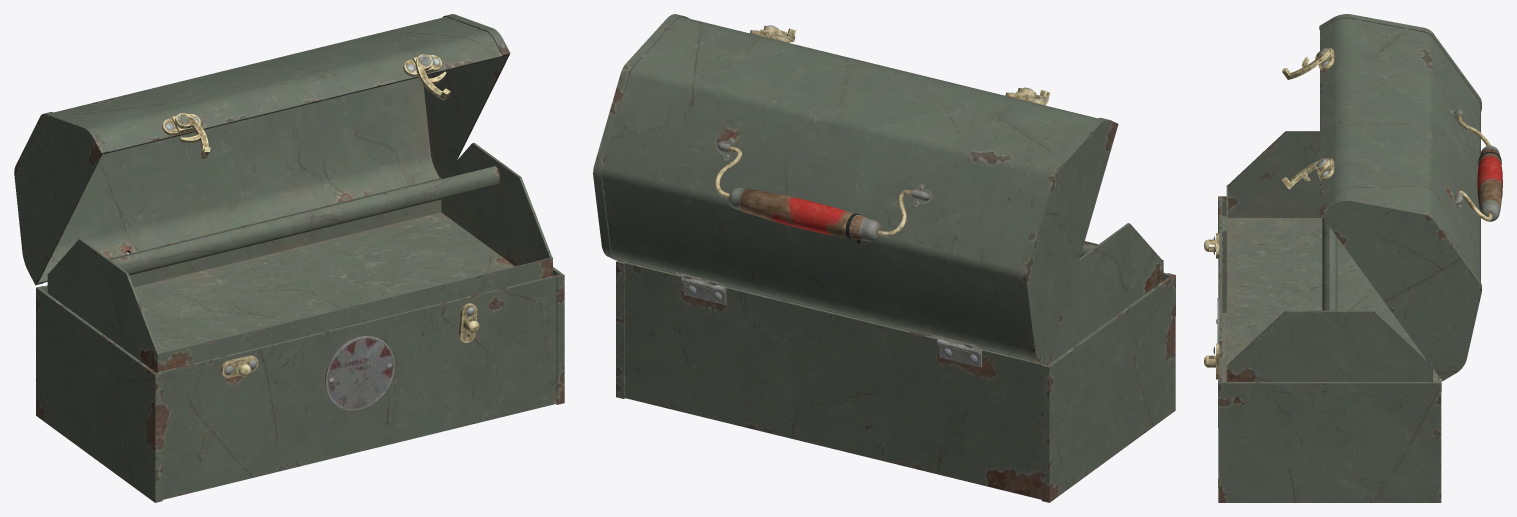
File: premium-ph-metal-toolbox.glb
3 views of the same model, side by side, from view 1: azimuth 30°, elevation 25°; view 2: azimuth 150°, elevation 25°; view 3: azimuth 270°, elevation 25° (orthographic). The views are drawn at different scales.
Parts seen in each view (by area): view 1: Cylinder.015, metal_toolbox, metal_toolbox_tray, metal_toolbox_handle_latch_r, metal_toolbox_handle_latch_l; view 2: Cylinder.015, metal_toolbox, metal_toolbox_tray, metal_toolbox_handle; view 3: Cylinder.015, metal_toolbox_tray, metal_toolbox, metal_toolbox_handle, metal_toolbox_handle_latch_l, metal_toolbox_handle_latch_r.
Boxes of the visible parts, left/top/right/bottom form: Cylinder.015: left=14, top=14, right=510, bottom=285; metal_toolbox: left=36, top=267, right=564, bottom=502; metal_toolbox_tray: left=47, top=142, right=552, bottom=372; metal_toolbox_handle_latch_r: left=415, top=54, right=450, bottom=100; metal_toolbox_handle_latch_l: left=175, top=113, right=210, bottom=158; Cylinder.015: left=593, top=14, right=1118, bottom=365; metal_toolbox: left=616, top=260, right=1175, bottom=502; metal_toolbox_tray: left=628, top=223, right=1163, bottom=363; metal_toolbox_handle: left=715, top=146, right=912, bottom=244; Cylinder.015: left=1317, top=14, right=1481, bottom=381; metal_toolbox_tray: left=1226, top=131, right=1432, bottom=381; metal_toolbox: left=1204, top=196, right=1441, bottom=502; metal_toolbox_handle: left=1457, top=114, right=1502, bottom=221; metal_toolbox_handle_latch_l: left=1282, top=48, right=1330, bottom=79; metal_toolbox_handle_latch_r: left=1282, top=158, right=1330, bottom=189.
Size of the model in its own units: 0.4 by 0.3047 by 0.2705.
Materials: 1 (1 with a texture image).
